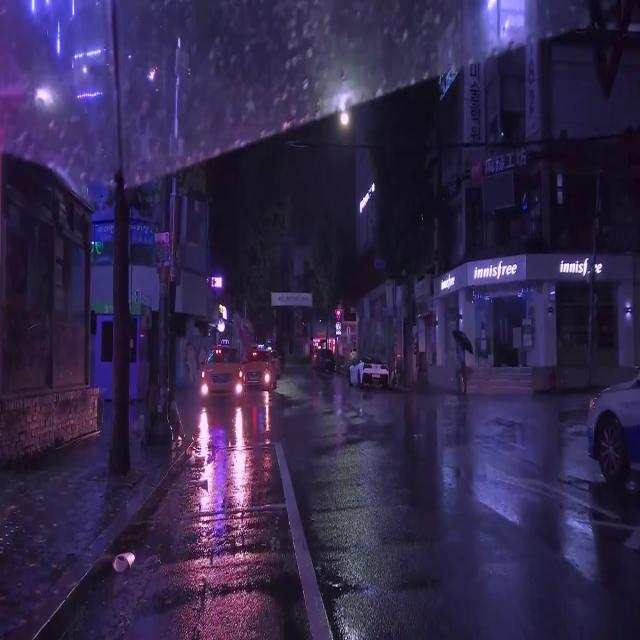Car: (200, 347, 242, 396), (243, 346, 274, 386)
